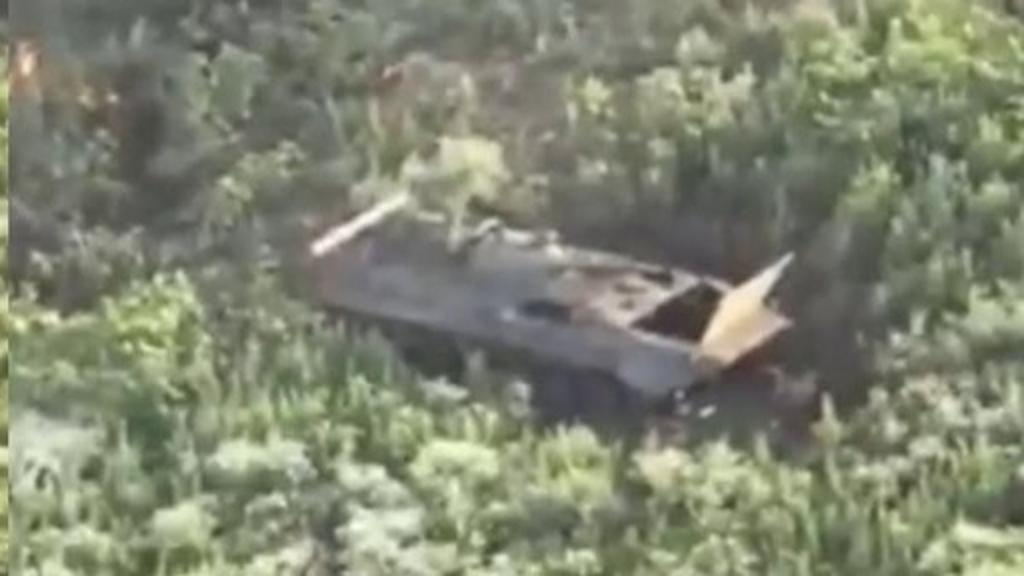APC-IFV: (318, 196, 810, 432)
